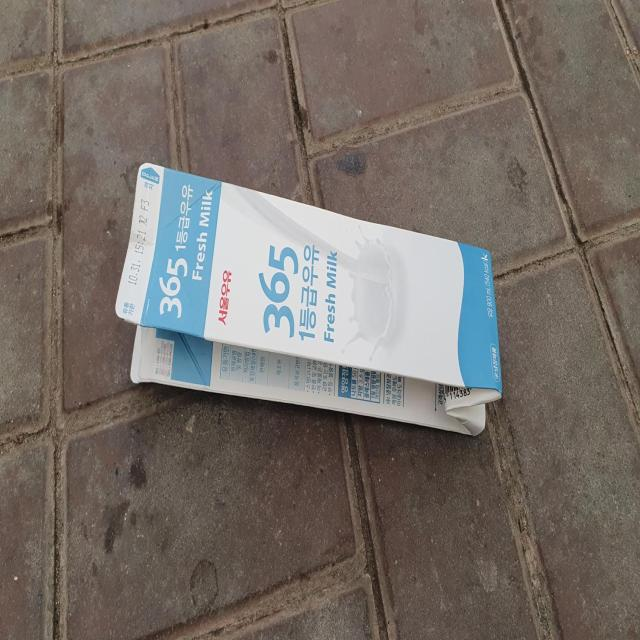paperpack: (115, 163, 503, 435)
